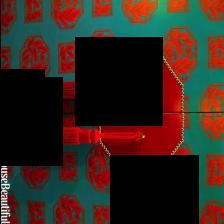red: (98, 49, 182, 177)
